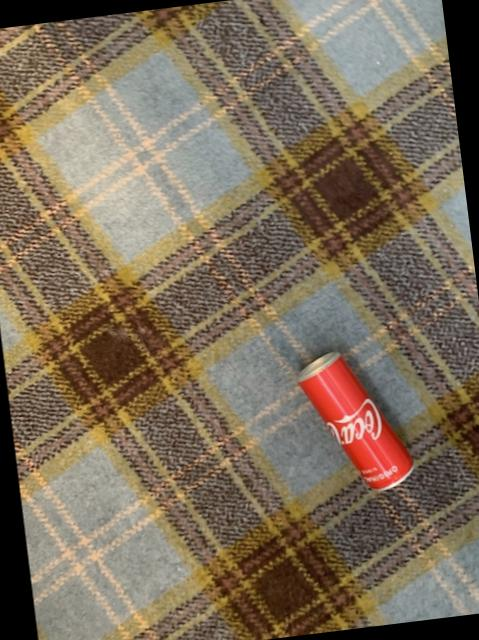metal: (295, 349, 410, 487)
